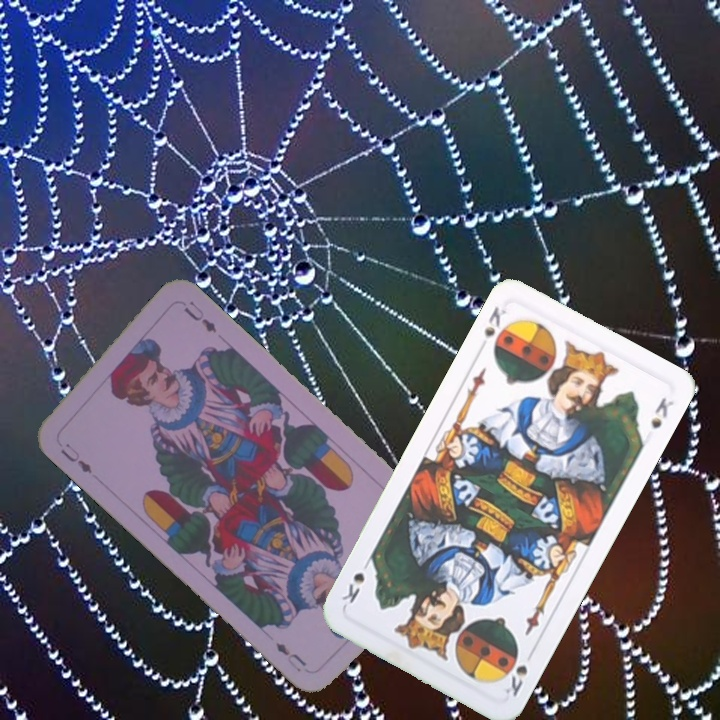EU: (56, 438, 95, 477)
SK: (500, 645, 530, 700), (480, 301, 512, 341)
